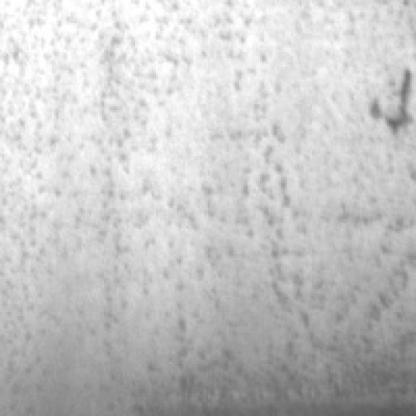pitted_surface: (6, 23, 404, 401)
